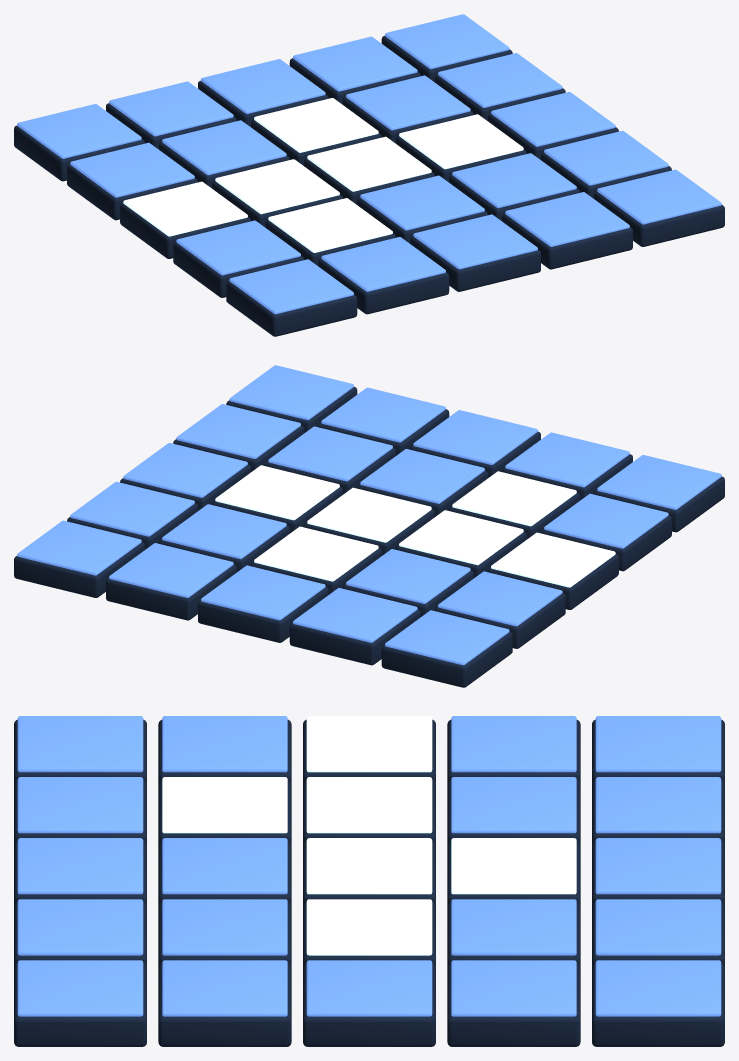
Rendered from isometric_settlement_grid.glb.
The picture shows the model from 3 angles, top to bottom: view 1: azimuth 30°, elevation 25°; view 2: azimuth 150°, elevation 25°; view 3: azimuth 270°, elevation 25°; orthographic projection. The views are drawn at different scales.
Parts seen in each view (by area): view 1: TopLEDPlate_14, TopLEDPlate_06, TopLEDPlate_03, TopLEDPlate_08, TopLEDPlate_10, TopLEDPlate_11, TopLEDPlate_17, TopLEDPlate_19, TopLEDPlate_20, TopLEDPlate_22, TopLEDPlate_23, TopLEDPlate_02 (+38 smaller); view 2: TopLEDPlate_14, TopLEDPlate_16, TopLEDPlate_02, TopLEDPlate_03, TopLEDPlate_07, TopLEDPlate_09, TopLEDPlate_10, TopLEDPlate_11, TopLEDPlate_18, TopLEDPlate_20, TopLEDPlate_23, TopLEDPlate_01 (+38 smaller); view 3: TopLEDPlate_12, TopLEDPlate_01, TopLEDPlate_21, TopLEDPlate_02, TopLEDPlate_04, TopLEDPlate_11, TopLEDPlate_13, TopLEDPlate_14, TopLEDPlate_15, TopLEDPlate_22, TopLEDPlate_24, TopLEDPlate_03 (+38 smaller).
Part boxes in pixels (x1=…): TopLEDPlate_14: x1=399, y1=114, x2=523, y2=169; TopLEDPlate_06: x1=176, y1=220, x2=300, y2=275; TopLEDPlate_03: x1=413, y1=214, x2=537, y2=269; TopLEDPlate_08: x1=360, y1=175, x2=484, y2=230; TopLEDPlate_10: x1=544, y1=130, x2=668, y2=185; TopLEDPlate_11: x1=123, y1=181, x2=247, y2=236; TopLEDPlate_17: x1=162, y1=120, x2=286, y2=175; TopLEDPlate_19: x1=346, y1=75, x2=470, y2=130; TopLEDPlate_20: x1=438, y1=53, x2=562, y2=107; TopLEDPlate_22: x1=109, y1=81, x2=233, y2=136; TopLEDPlate_23: x1=201, y1=59, x2=325, y2=113; TopLEDPlate_02: x1=321, y1=237, x2=445, y2=291; TopLEDPlate_14: x1=215, y1=465, x2=339, y2=520; TopLEDPlate_16: x1=438, y1=571, x2=562, y2=626; TopLEDPlate_02: x1=505, y1=432, x2=629, y2=487; TopLEDPlate_03: x1=413, y1=410, x2=537, y2=464; TopLEDPlate_07: x1=452, y1=471, x2=576, y2=526; TopLEDPlate_09: x1=268, y1=426, x2=392, y2=481; TopLEDPlate_10: x1=176, y1=404, x2=300, y2=458; TopLEDPlate_11: x1=491, y1=532, x2=615, y2=587; TopLEDPlate_18: x1=254, y1=526, x2=378, y2=581; TopLEDPlate_20: x1=70, y1=481, x2=194, y2=536; TopLEDPlate_23: x1=201, y1=565, x2=325, y2=620; TopLEDPlate_01: x1=597, y1=455, x2=721, y2=509; TopLEDPlate_12: x1=306, y1=777, x2=432, y2=833; TopLEDPlate_01: x1=17, y1=716, x2=143, y2=772; TopLEDPlate_21: x1=595, y1=716, x2=721, y2=772; TopLEDPlate_02: x1=17, y1=777, x2=143, y2=833; TopLEDPlate_04: x1=17, y1=899, x2=143, y2=955; TopLEDPlate_11: x1=306, y1=716, x2=432, y2=772; TopLEDPlate_13: x1=306, y1=838, x2=432, y2=894; TopLEDPlate_14: x1=306, y1=899, x2=432, y2=955; TopLEDPlate_15: x1=306, y1=960, x2=432, y2=1016; TopLEDPlate_22: x1=595, y1=777, x2=721, y2=833; TopLEDPlate_24: x1=595, y1=899, x2=721, y2=955; TopLEDPlate_03: x1=17, y1=838, x2=143, y2=894.
Bounding box in the file's own units: 7.48 × 0.4 × 7.48.
